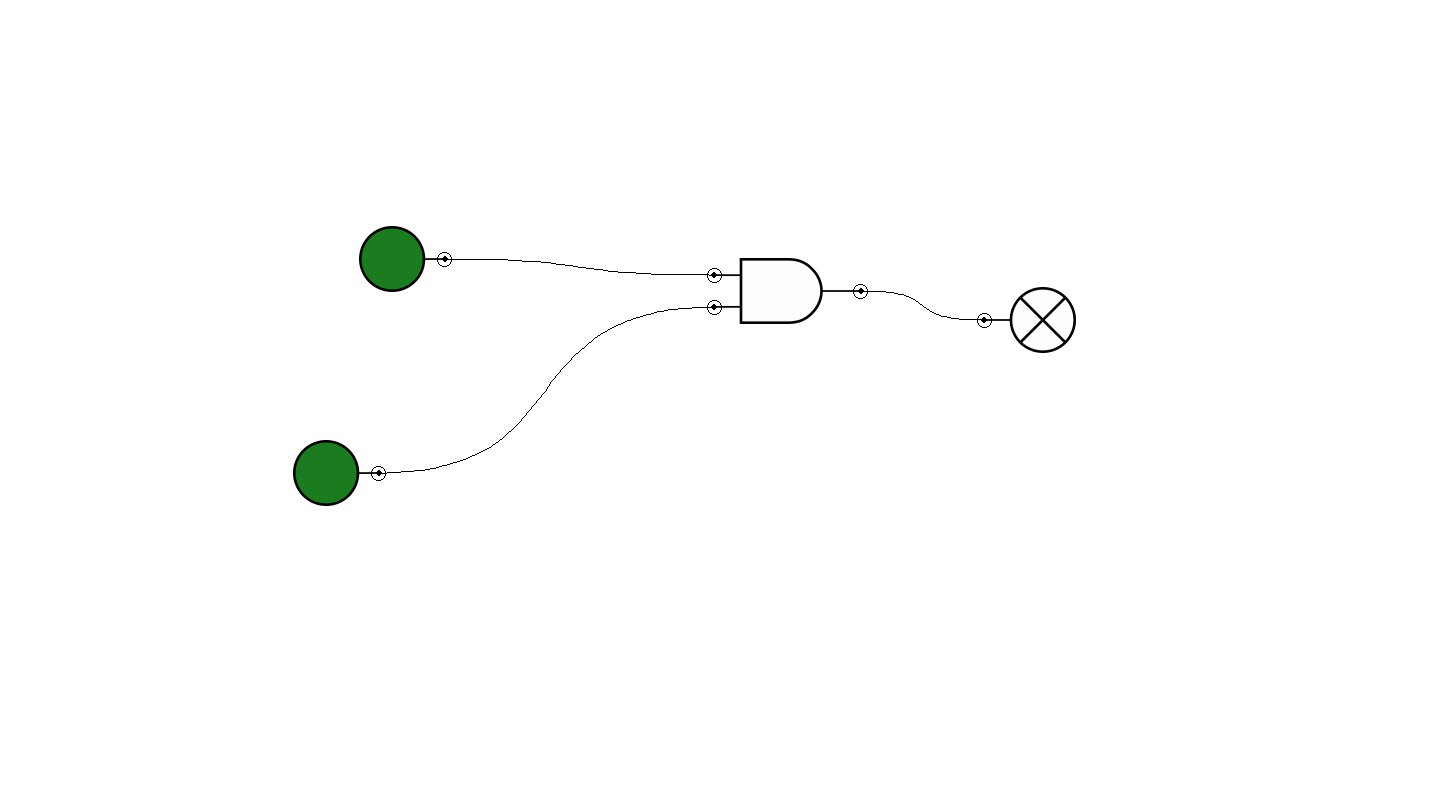and: (707, 258, 868, 324)
bulb: (977, 287, 1076, 353)
switch_True: (293, 440, 386, 506), (359, 226, 452, 292)
